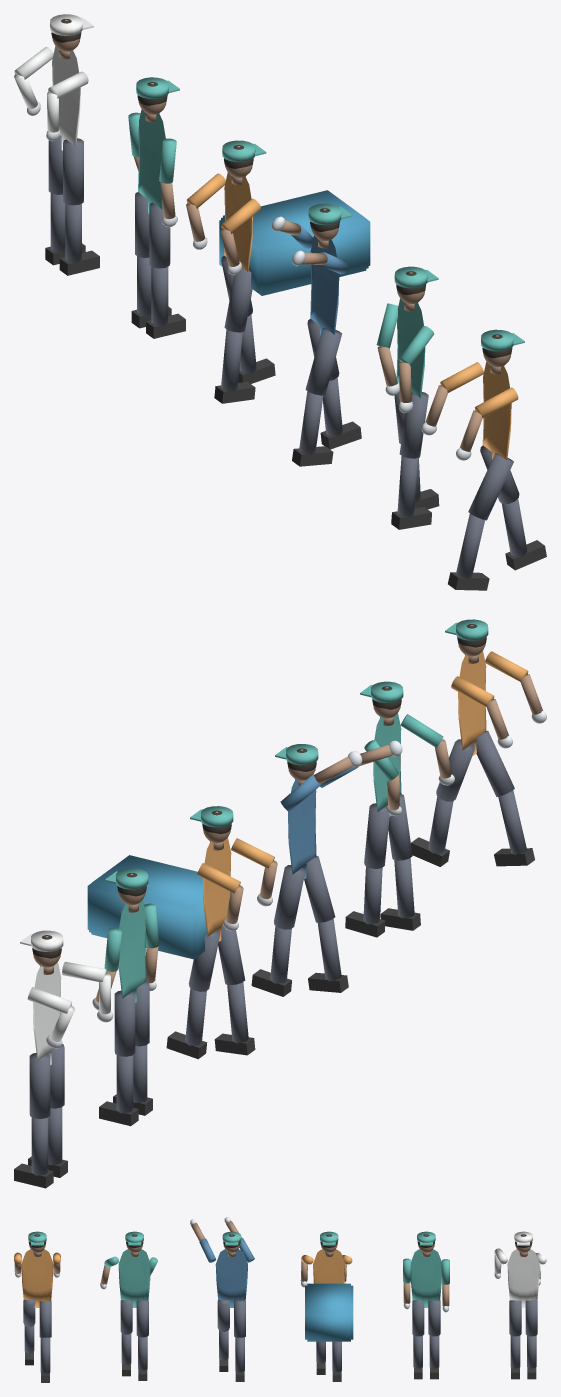
Rendered from fishing_crew_set.glb.
3 views of the same model, one above another, from view 1: azimuth 30°, elevation 25°; view 2: azimuth 150°, elevation 25°; view 3: azimuth 270°, elevation 25° (orthographic). The views are drawn at different scales.
Parts seen in each view (by area): view 1: Crew_Carry_Crate, Crew_Stand_Torso, Crew_NetCast_Torso, Crew_Board_Torso, Crew_Inspect_Torso, Crew_Rope_Torso, Crew_Carry_Torso, Crew_Board_LThigh, Crew_NetCast_LThigh, Crew_Inspect_LThigh, Crew_Rope_LThigh, Crew_Carry_LThigh (+14 smaller); view 2: Crew_Carry_Crate, Crew_Stand_Torso, Crew_NetCast_Torso, Crew_Board_Torso, Crew_Carry_Torso, Crew_Inspect_Torso, Crew_Stand_RThigh, Crew_Inspect_RThigh, Crew_Rope_Torso, Crew_NetCast_RThigh, Crew_Rope_RThigh, Crew_Board_LThigh (+19 smaller); view 3: Crew_Carry_Crate, Crew_Inspect_Torso, Crew_Rope_Torso, Crew_Board_Torso, Crew_Stand_Torso, Crew_NetCast_Torso, Crew_Carry_Torso, Crew_Board_RThigh, Crew_Rope_RThigh, Crew_Inspect_LThigh, Crew_Stand_RThigh, Crew_Stand_LThigh (+18 smaller).
Part boxes in pixels (x1,y1,x2,y2): Crew_Carry_Crate: [219, 190, 370, 295]; Crew_Stand_Torso: [138, 109, 165, 213]; Crew_NetCast_Torso: [310, 235, 339, 336]; Crew_Board_Torso: [482, 361, 511, 461]; Crew_Inspect_Torso: [52, 46, 80, 150]; Crew_Rope_Torso: [396, 298, 425, 398]; Crew_Carry_Torso: [224, 172, 252, 275]; Crew_Board_LThigh: [468, 453, 513, 520]; Crew_NetCast_LThigh: [305, 328, 342, 395]; Crew_Inspect_LThigh: [63, 138, 83, 205]; Crew_Rope_LThigh: [399, 392, 428, 458]; Crew_Carry_LThigh: [224, 268, 252, 332]; Crew_Carry_Crate: [87, 855, 230, 959]; Crew_Stand_Torso: [118, 900, 146, 1002]; Crew_NetCast_Torso: [288, 779, 316, 879]; Crew_Board_Torso: [458, 651, 486, 755]; Crew_Carry_Torso: [203, 837, 231, 941]; Crew_Inspect_Torso: [33, 962, 61, 1064]; Crew_Stand_RThigh: [114, 990, 135, 1056]; Crew_Inspect_RThigh: [29, 1053, 50, 1118]; Crew_Rope_Torso: [373, 713, 401, 816]; Crew_NetCast_RThigh: [274, 865, 304, 929]; Crew_Rope_RThigh: [364, 803, 389, 868]; Crew_Board_LThigh: [476, 730, 514, 796]; Crew_Carry_Crate: [305, 1283, 353, 1341]; Crew_Inspect_Torso: [507, 1249, 539, 1307]; Crew_Rope_Torso: [118, 1249, 150, 1307]; Crew_Board_Torso: [21, 1249, 53, 1307]; Crew_Stand_Torso: [410, 1249, 441, 1307]; Crew_NetCast_Torso: [215, 1249, 247, 1307]; Crew_Carry_Torso: [313, 1249, 345, 1283]; Crew_Board_RThigh: [39, 1300, 51, 1337]; Crew_Rope_RThigh: [136, 1300, 148, 1337]; Crew_Inspect_LThigh: [509, 1300, 521, 1336]; Crew_Stand_RThigh: [428, 1300, 440, 1336]; Crew_Stand_LThigh: [412, 1300, 424, 1336].
Bounding box in the file's own units: 1.44 × 1.95 × 6.58.
